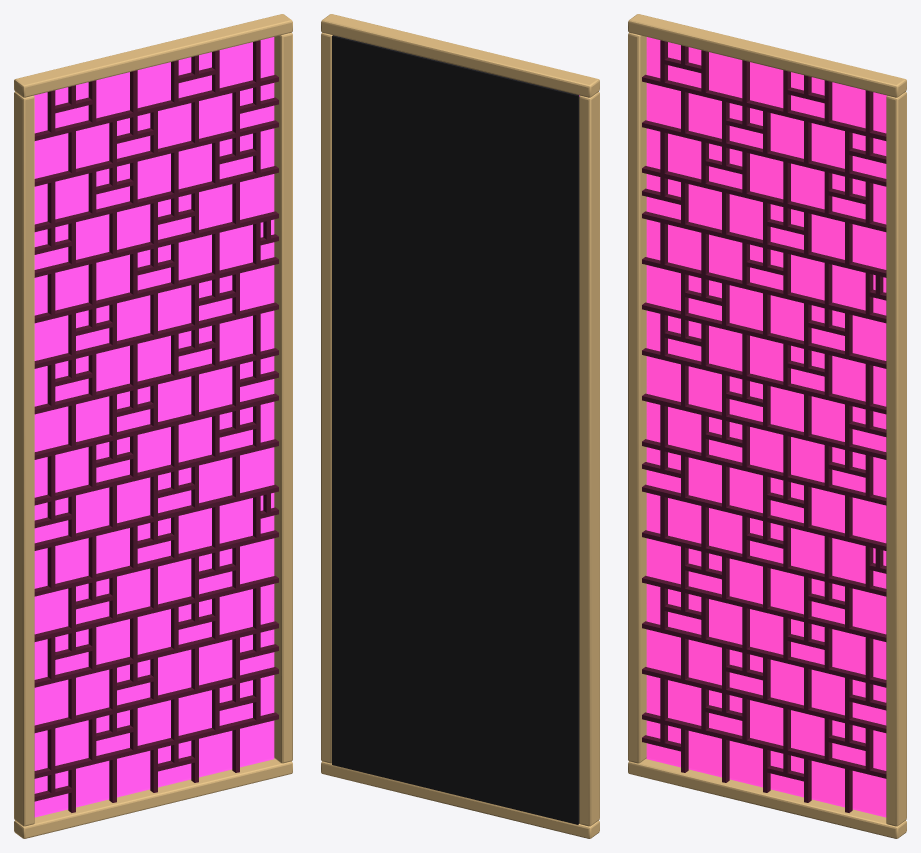
File: JAC_37_Painel_Trelica.glb
3 renders of one model, left to right at view 1: azimuth 30°, elevation 25°; view 2: azimuth 150°, elevation 25°; view 3: azimuth 330°, elevation 25°, orthographic.
Parts seen in each view (by area): view 1: JAC_37_Painel_Trelica; view 2: JAC_37_Painel_Trelica; view 3: JAC_37_Painel_Trelica.
Boxes of the visible parts, x1=… form: JAC_37_Painel_Trelica: x1=14, y1=14, x2=292, y2=838; JAC_37_Painel_Trelica: x1=321, y1=14, x2=599, y2=838; JAC_37_Painel_Trelica: x1=628, y1=14, x2=906, y2=838.
Size of the model in its own units: 0.9 by 2.4 by 0.062.
